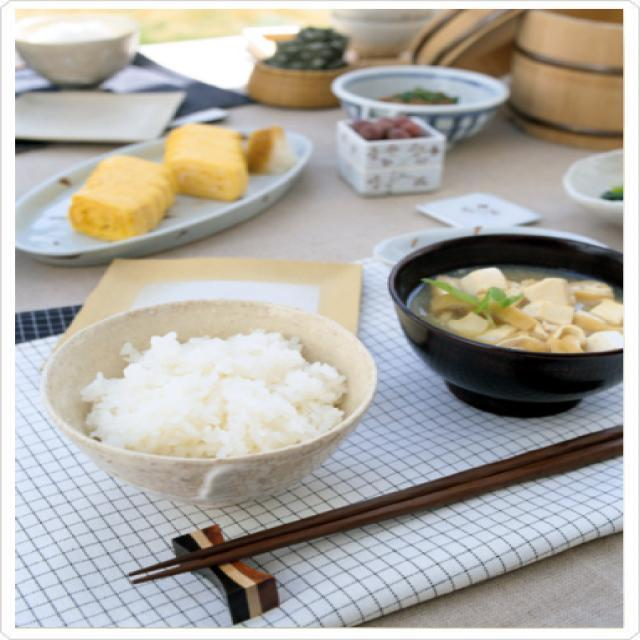Rice: (83, 324, 354, 456)
